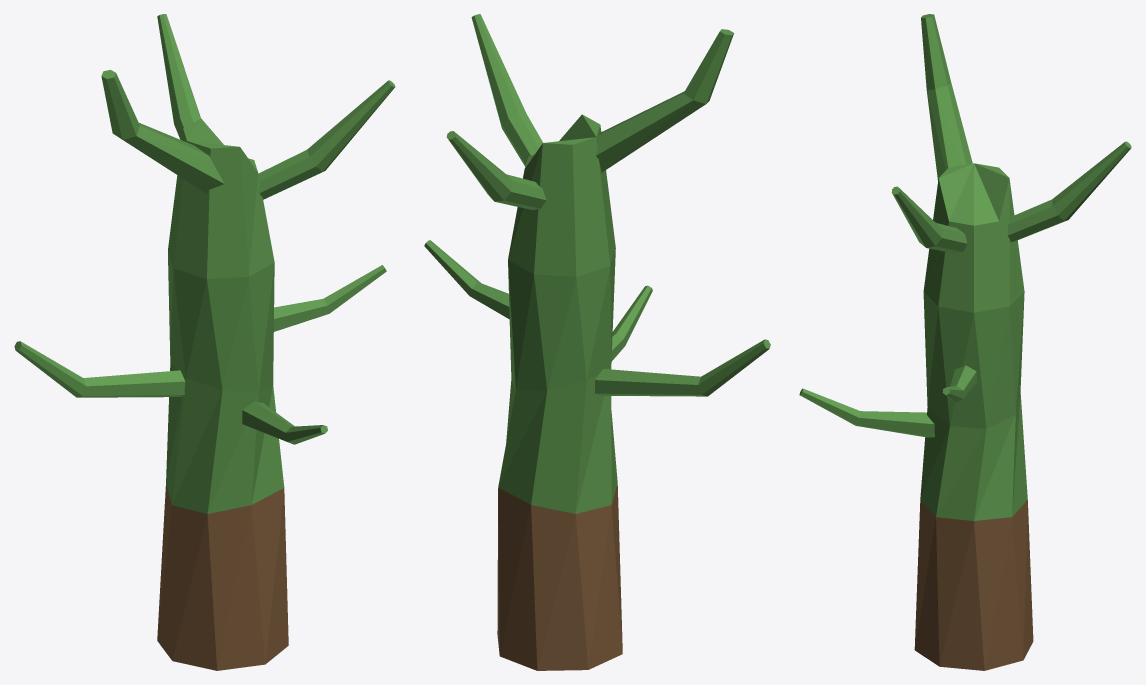
File: tree3d-118.glb
The picture shows the model from 3 angles, left to right: view 1: azimuth 30°, elevation 25°; view 2: azimuth 150°, elevation 25°; view 3: azimuth 270°, elevation 25°; orthographic projection. The views are drawn at different scales.
Visible parts, largest first — view 1: tree3d-118; view 2: tree3d-118; view 3: tree3d-118.
Part boxes in pixels (box(x1,y1,x2,y2)): tree3d-118: box(14, 14, 395, 670); tree3d-118: box(424, 14, 770, 670); tree3d-118: box(799, 14, 1131, 670).
Size of the model in its own units: 0.5973 by 1 by 0.5292.
